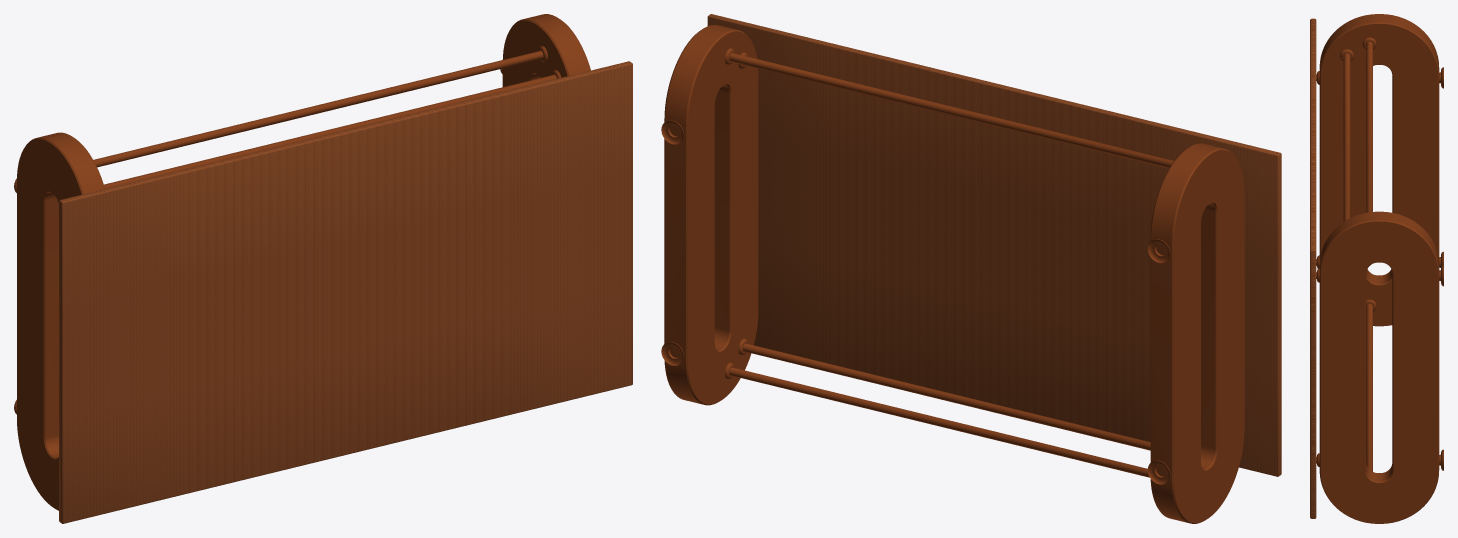
Rendered from Coffeet2.obj.
3 renders of one model, left to right at view 1: azimuth 30°, elevation 25°; view 2: azimuth 150°, elevation 25°; view 3: azimuth 270°, elevation 25°, orthographic. The views are drawn at different scales.
Parts seen in each view (by area): view 1: Table2; view 2: Table2; view 3: Table2.
Boxes of the visible parts, bbox=[...] form: Table2: bbox=[14, 14, 632, 523]; Table2: bbox=[661, 14, 1281, 523]; Table2: bbox=[1310, 14, 1443, 523].
Size of the model in its own units: 49.01 by 29.89 by 11.92.
Materials: 3 (3 with a texture image).
